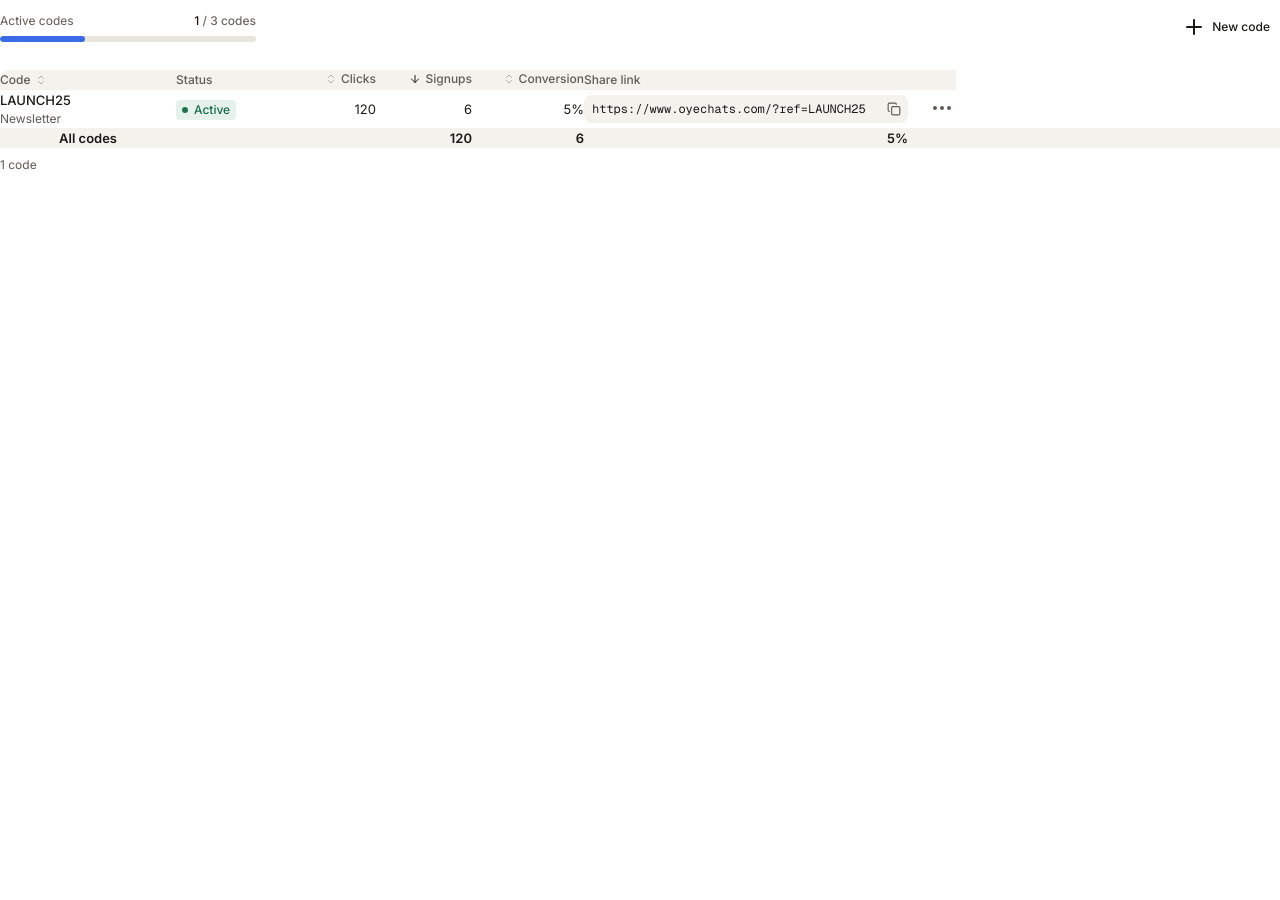
Test: AffiliatePage: codes › refuses a split that exceeds the pool, before it is sent
The width and height of the screenshot is (1280, 900).
Click the button "New code" at (1226, 27), box [1172,13,1279,41]
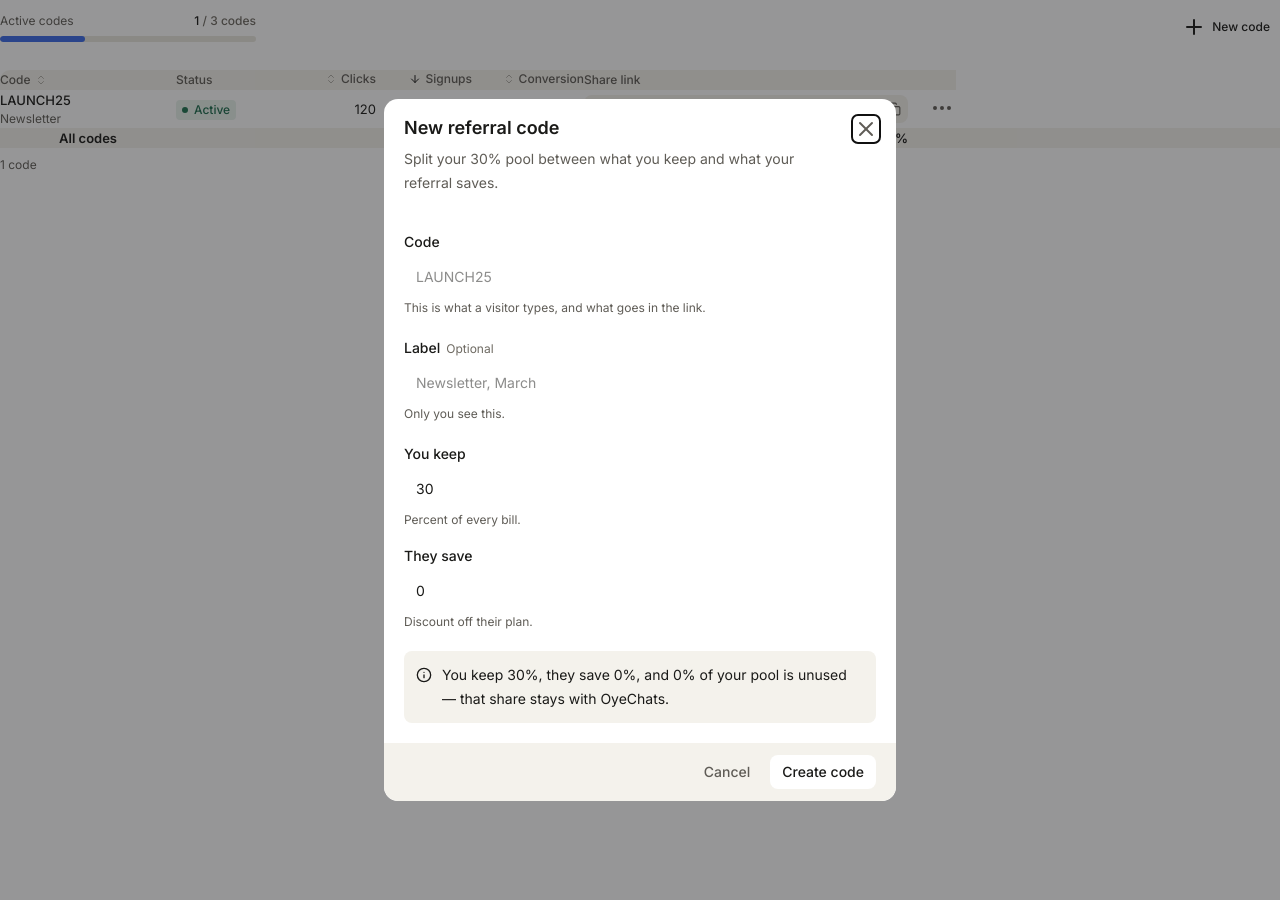
Type "SPRING" into the field labelled "Code" at (640, 276), box [404,259,876,293]
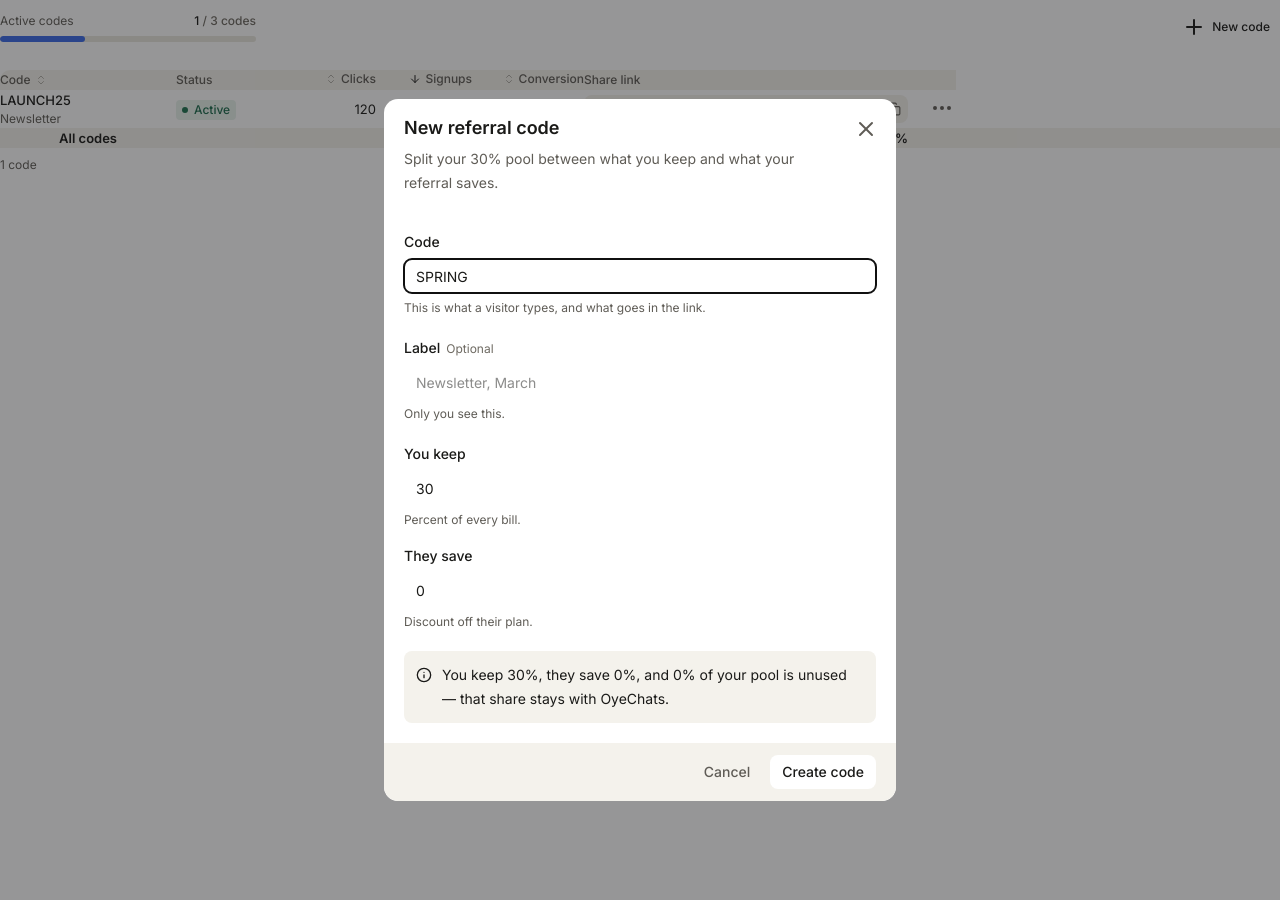
Replace the text in the field labelled "They save" with "20" at (640, 590), box [404,573,876,607]
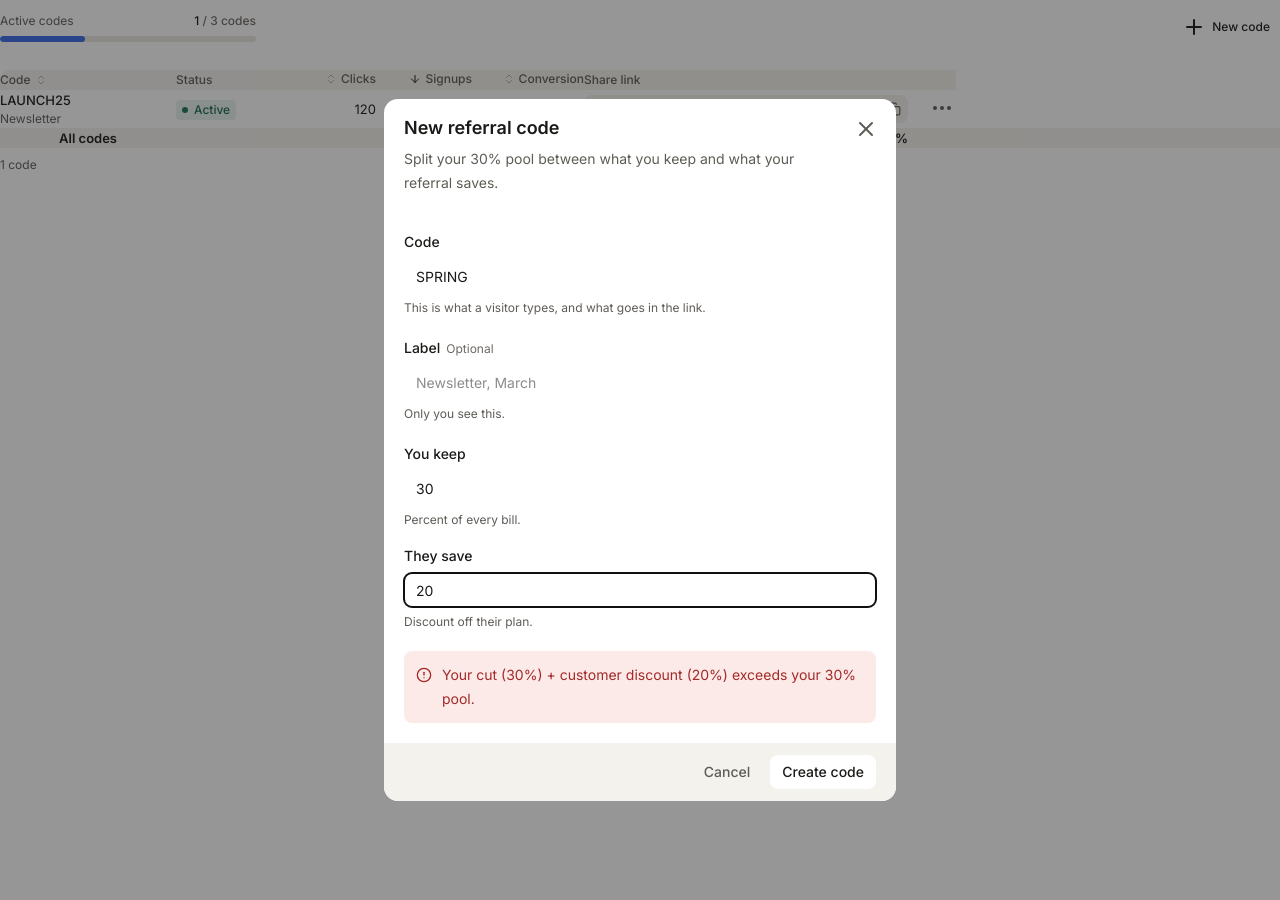
Expected: the button "Create code" is disabled, [770,755,876,789]
Result: the text "exceeds your 30% pool" is shown at [442,666,856,707]
